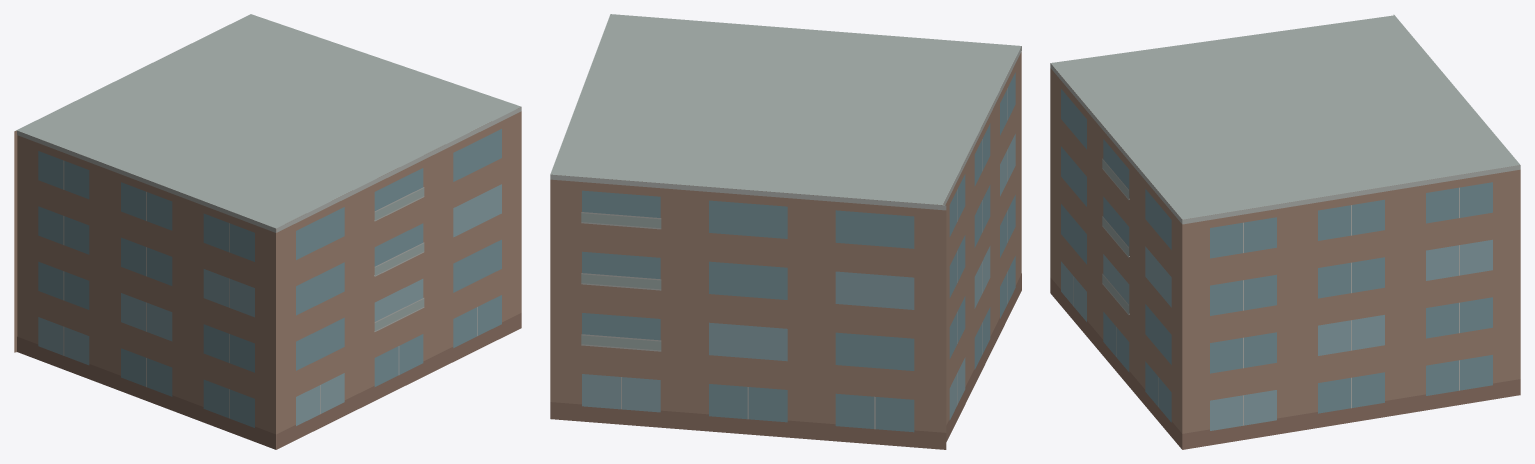
File: survey-upis-32843140.glb
The picture shows the model from 3 angles, left to right: view 1: azimuth 30°, elevation 25°; view 2: azimuth 150°, elevation 25°; view 3: azimuth 270°, elevation 25°; orthographic projection. The views are drawn at different scales.
Visible parts, largest first — view 1: survey-upis-32843140.tmp; view 2: survey-upis-32843140.tmp; view 3: survey-upis-32843140.tmp.
Part boxes in pixels (x1,y1,x2,y2): survey-upis-32843140.tmp: (14,14,521,449); survey-upis-32843140.tmp: (550,14,1021,449); survey-upis-32843140.tmp: (1050,14,1520,449).
Bounding box in the file's own units: 22.83 × 11.9 × 22.04.
